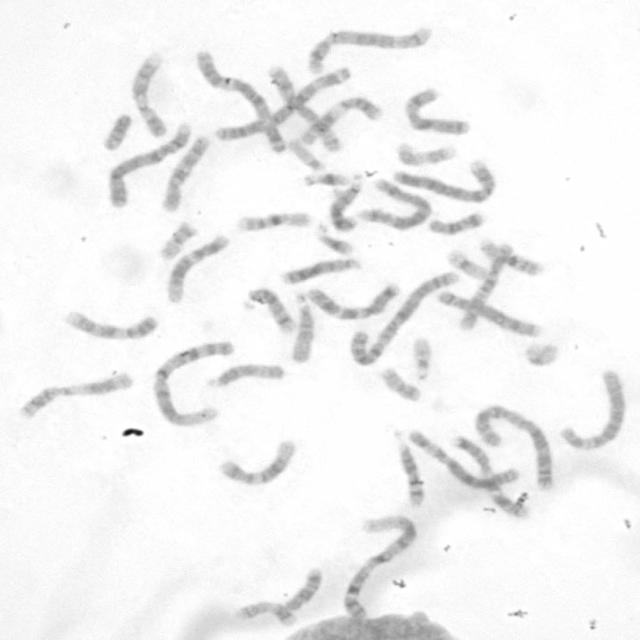A1: (338, 510, 420, 621), (148, 337, 237, 428)
A2: (347, 267, 463, 368), (471, 400, 556, 492)
A3: (208, 62, 356, 142), (193, 46, 286, 154)
B4: (104, 119, 195, 209), (389, 157, 496, 203)
B5: (308, 21, 435, 75), (356, 176, 436, 230)
C10: (455, 239, 516, 332), (156, 132, 212, 214)
C11: (12, 369, 134, 421), (296, 93, 384, 146)
C12: (162, 230, 232, 305), (215, 436, 298, 487)
C6: (406, 426, 520, 491), (556, 366, 628, 451)
C7: (448, 432, 530, 518), (302, 278, 401, 320)
C8: (264, 61, 345, 156), (435, 288, 543, 338)
C9: (126, 49, 170, 139), (59, 306, 161, 342)
D13: (277, 256, 363, 286), (326, 171, 365, 234)
D14: (242, 284, 296, 334), (394, 438, 426, 506)
D15: (203, 360, 286, 389), (287, 294, 317, 364)
E16: (476, 235, 546, 278), (232, 208, 312, 234)
E17: (232, 597, 298, 627), (392, 140, 460, 167)
E18: (281, 565, 323, 612), (424, 208, 486, 235)
F19: (444, 246, 490, 280), (521, 342, 561, 368)
F20: (156, 219, 200, 261), (378, 364, 423, 402)
G21: (312, 222, 354, 256), (299, 170, 351, 190)
G22: (284, 136, 326, 172), (408, 332, 434, 382)
X: (401, 84, 473, 136)
Y: (100, 111, 134, 151)
